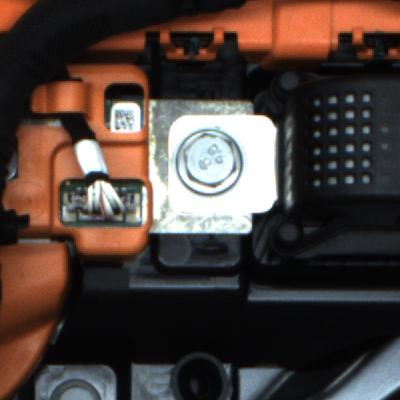nut_b: (166, 124, 252, 204)
